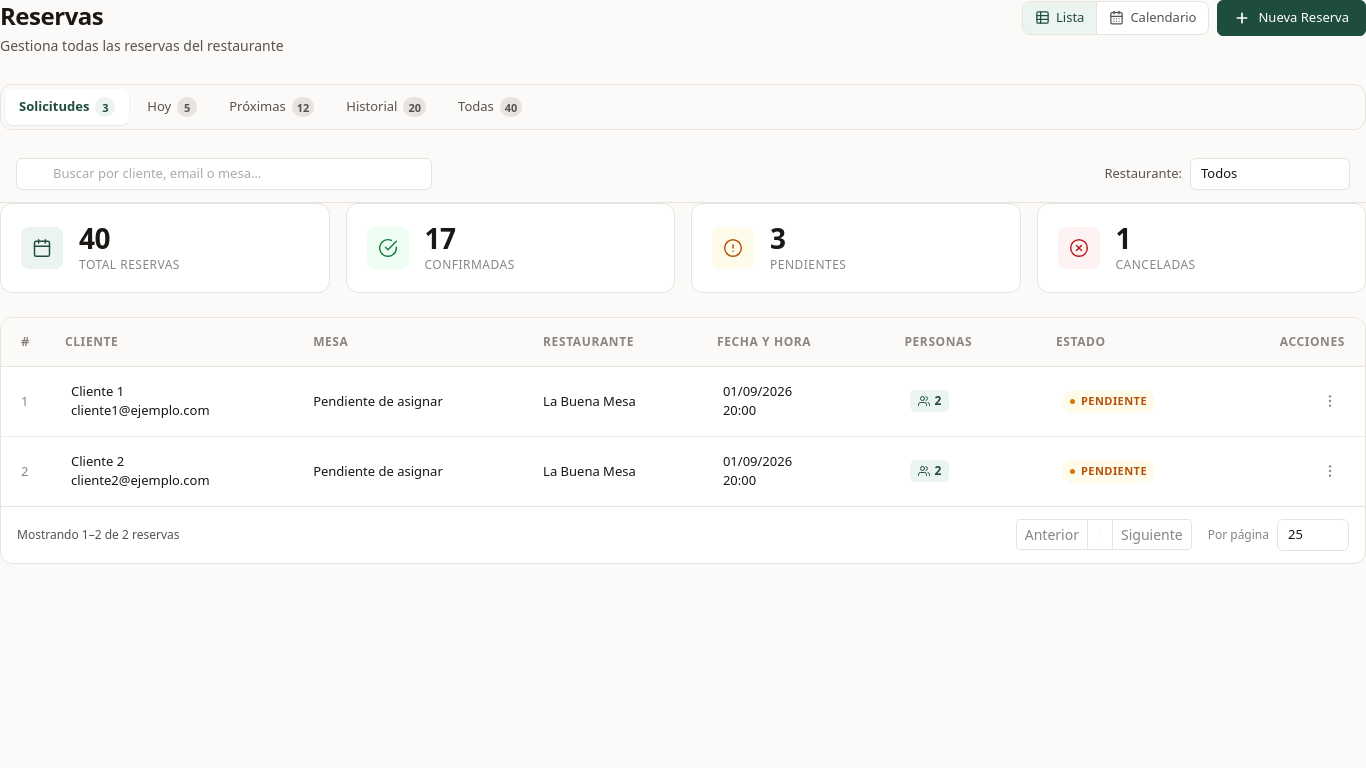
Test case: Panel de reservas › el menú de acciones abre el detalle de la reserva
Expected: the text "Cliente 1" is shown, top-left (71, 382), bottom-right (124, 400)
Click the button named "acciones de la reserva 1" at (1330, 401), box top-left (1315, 386), bottom-right (1345, 416)
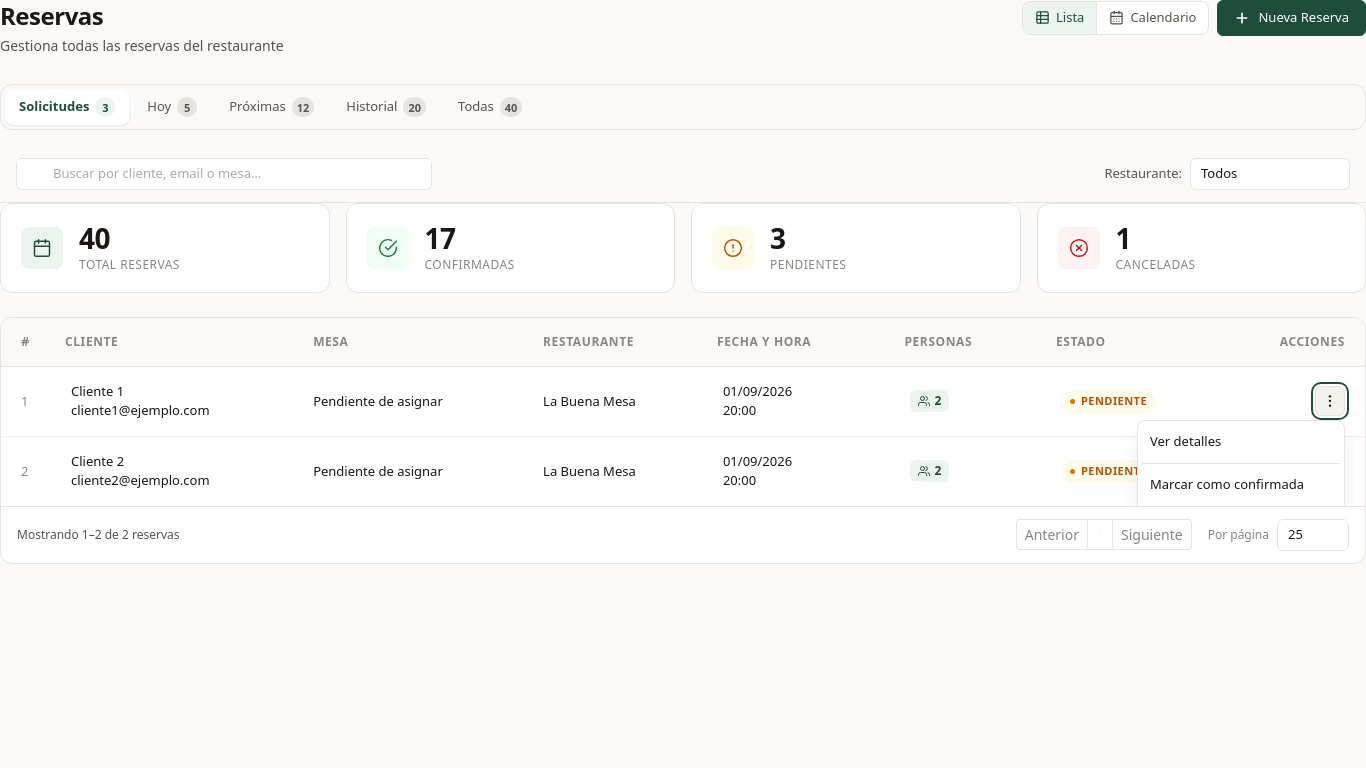
Click the menu item "Ver detalles" at (1241, 442), box top-left (1142, 425), bottom-right (1340, 459)
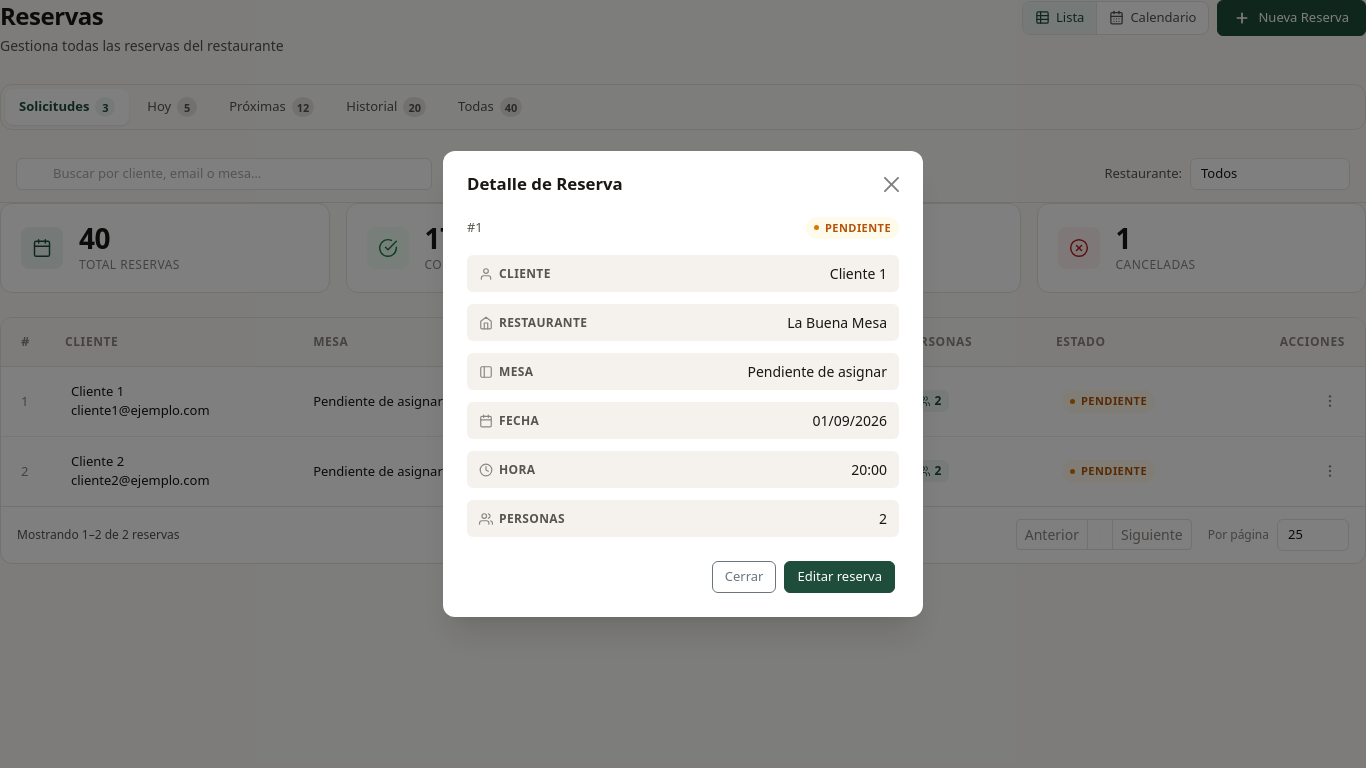
Now the heading "Detalle de Reserva" is shown, box top-left (467, 171), bottom-right (623, 197)
